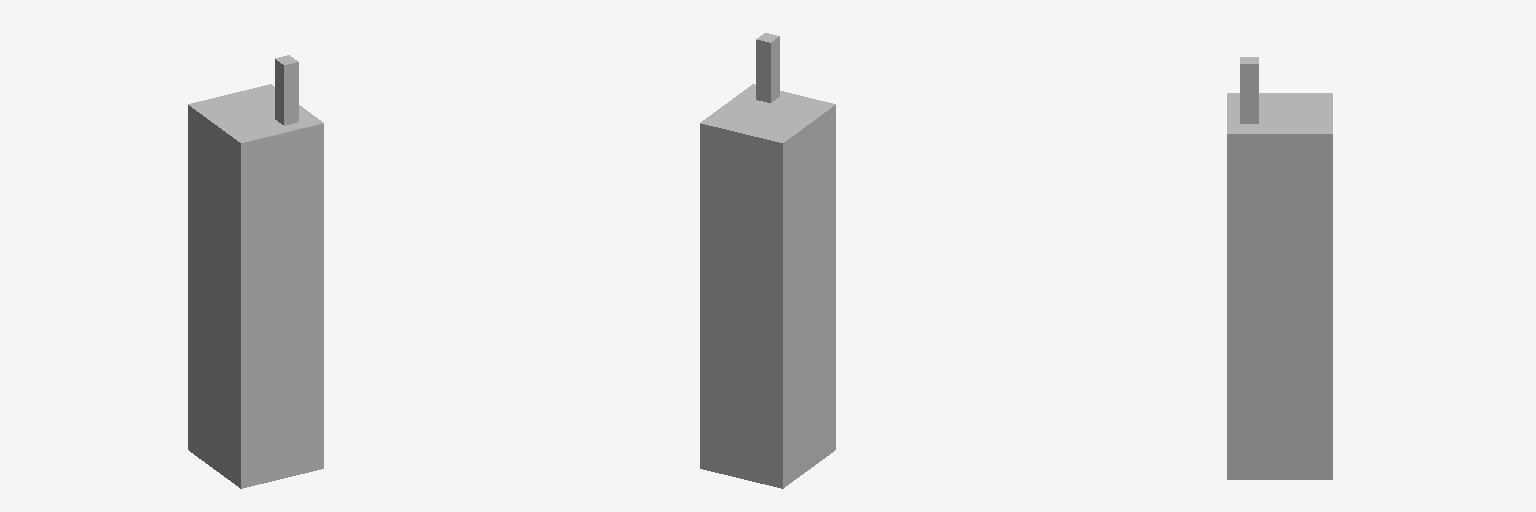
File: superdrink.obj
3 views of the same model, side by side, from view 1: azimuth 30°, elevation 25°; view 2: azimuth 150°, elevation 25°; view 3: azimuth 270°, elevation 25° (orthographic).
Parts seen in each view (by area): view 1: Box002; view 2: Box002; view 3: Box002.
Boxes of the visible parts, box(x1,y1,x2,y2) form: Box002: box(188, 55, 323, 488); Box002: box(700, 33, 835, 488); Box002: box(1227, 57, 1332, 479).
Bounding box in the file's own units: 9.16 × 42.77 × 10.18.